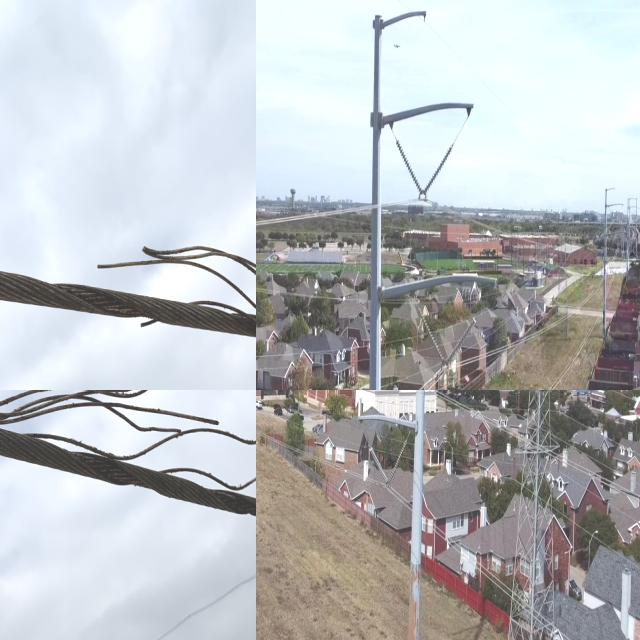杆塔: (502, 390, 564, 640)
正常绝缘子: (410, 132, 464, 215), (388, 126, 432, 210), (438, 308, 481, 379), (412, 300, 452, 373), (360, 431, 396, 496), (382, 426, 414, 497)
电缆破损: (0, 390, 256, 547), (0, 213, 256, 359)
